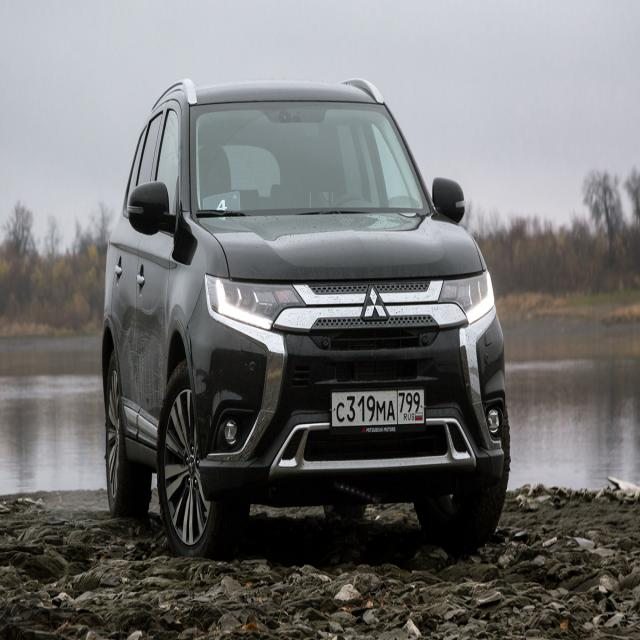light_vehicle: (101, 79, 511, 562)
